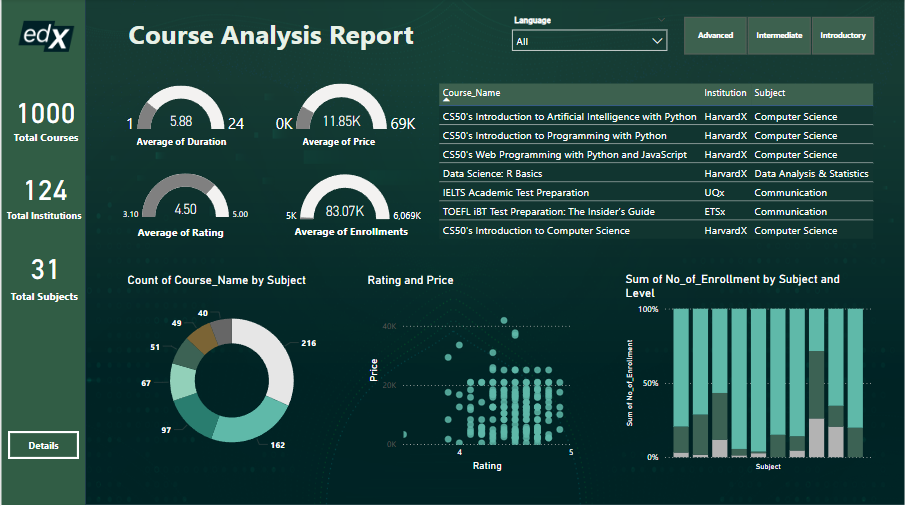

This screenshot's page, from the dashboard's own definition file:
{"tool":"powerbi","page":{"name":"Page 1","canvas":[1280,720],"ordinal":0},"visuals":[{"type":"scatterChart","fields":{"X":["nivash_c edx.Rating"],"Y":["nivash_c edx.Price"]},"box":[514,388,302.4,285.6],"z":0},{"type":"card","fields":{"Values":["nivash_c edx.Subject"]},"box":[1.4,341.6,123.3,73.7],"z":1000},{"type":"textbox","box":[8.5,405.4,114.8,31.2],"z":2000},{"type":"card","fields":{"Values":["nivash_c edx.Institution"]},"box":[0,231,124.7,72.3],"z":3000},{"type":"card","fields":{"Values":["nivash_c edx.Course_Name"]},"box":[0,120.9,126,73.9],"z":4000},{"type":"donutChart","fields":{"Category":["nivash_c edx.Subject"],"Y":["nivash_c edx.Course_Name"]},"box":[174.7,388,305.7,285.6],"z":5000},{"type":"textbox","box":[2.8,293.4,124.7,35.4],"z":6000},{"type":"textbox","box":[13,180,110.9,31.7],"z":7000},{"type":"gauge","title":"Average of Duration","fields":{"Y":["nivash_c edx.Duration"],"MinValue":["nivash_c edx.Duration"],"MaxValue":["Sum(nivash_c edx.Duration)1"]},"box":[161.6,117.1,198.4,76.5],"z":8000},{"type":"tableEx","fields":{"Values":["nivash_c edx.Course_Name","nivash_c edx.Institution","nivash_c edx.Subject"]},"box":[619.4,114.8,626.5,231],"z":9000},{"type":"gauge","fields":{"Y":["nivash_c edx.Price"],"MinValue":["nivash_c edx.Price"],"MaxValue":["Sum(nivash_c edx.Price)1"]},"box":[374.2,114.2,228.2,79.4],"z":10000},{"type":"slicer","fields":{"Values":["nivash_c edx.Level"]},"box":[942.5,18.4,318.9,66.6],"z":11000},{"type":"hundredPercentStackedColumnChart","fields":{"Category":["nivash_c edx.Subject"],"Y":["nivash_c edx.No_of_Enrollment"],"Series":["nivash_c edx.Level"]},"box":[880.2,386.4,357.8,285.6],"z":12000},{"type":"gauge","fields":{"Y":["nivash_c edx.Rating"],"MinValue":["nivash_c edx.Rating"],"MaxValue":["Sum(nivash_c edx.Rating)1"]},"box":[161.6,241.8,199.8,76.5],"z":13000},{"type":"gauge","fields":{"Y":["nivash_c edx.No_of_Enrollment"],"MinValue":["nivash_c edx.No_of_Enrollment"],"MaxValue":["Sum(nivash_c edx.No_of_Enrollment)1"]},"box":[394.5,242.3,211.2,80.8],"z":14000},{"type":"slicer","fields":{"Values":["nivash_c edx.Language"]},"box":[714.3,18.4,239.5,66.6],"z":15000},{"type":"image","box":[20.2,10.1,89,85.7],"z":16000},{"type":"textbox","box":[175.7,18.4,426.6,62.4],"z":17000},{"type":"actionButton","box":[9.9,612.3,100.6,39.7],"z":18000},{"type":"textbox","box":[187.3,187.8,145.8,31],"z":19000},{"type":"textbox","box":[411,313.2,181.4,32.6],"z":20000},{"type":"textbox","box":[422.1,187.8,131.6,33.5],"z":21000},{"type":"textbox","box":[188.6,314.3,144.5,32.3],"z":22000}]}

Visuals, with their boxes in screenshot pixels (x1, y1, x2, y2), scaled from the page's 1280x720 canvas onto the 905x506 screenshot:
scatterChart - nivash_c edx.Rating x nivash_c edx.Price: bbox(363, 273, 577, 473)
card - nivash_c edx.Subject: bbox(1, 240, 88, 292)
textbox: bbox(6, 285, 87, 307)
card - nivash_c edx.Institution: bbox(0, 162, 88, 213)
card - nivash_c edx.Course_Name: bbox(0, 85, 89, 137)
donutChart - nivash_c edx.Subject x nivash_c edx.Course_Name: bbox(124, 273, 340, 473)
textbox: bbox(2, 206, 90, 231)
textbox: bbox(9, 126, 88, 149)
"Average of Duration" gauge: bbox(114, 82, 255, 136)
tableEx - nivash_c edx.Course_Name x nivash_c edx.Institution: bbox(438, 81, 881, 243)
gauge - nivash_c edx.Price x nivash_c edx.Price: bbox(265, 80, 426, 136)
slicer - nivash_c edx.Level: bbox(666, 13, 892, 60)
hundredPercentStackedColumnChart - nivash_c edx.Subject x nivash_c edx.No_of_Enrollment: bbox(622, 272, 875, 472)
gauge - nivash_c edx.Rating x nivash_c edx.Rating: bbox(114, 170, 256, 224)
gauge - nivash_c edx.No_of_Enrollment x nivash_c edx.No_of_Enrollment: bbox(279, 170, 428, 227)
slicer - nivash_c edx.Language: bbox(505, 13, 674, 60)
image: bbox(14, 7, 77, 67)
textbox: bbox(124, 13, 426, 57)
actionButton: bbox(7, 430, 78, 458)
textbox: bbox(132, 132, 236, 154)
textbox: bbox(291, 220, 419, 243)
textbox: bbox(298, 132, 391, 156)
textbox: bbox(133, 221, 236, 244)
